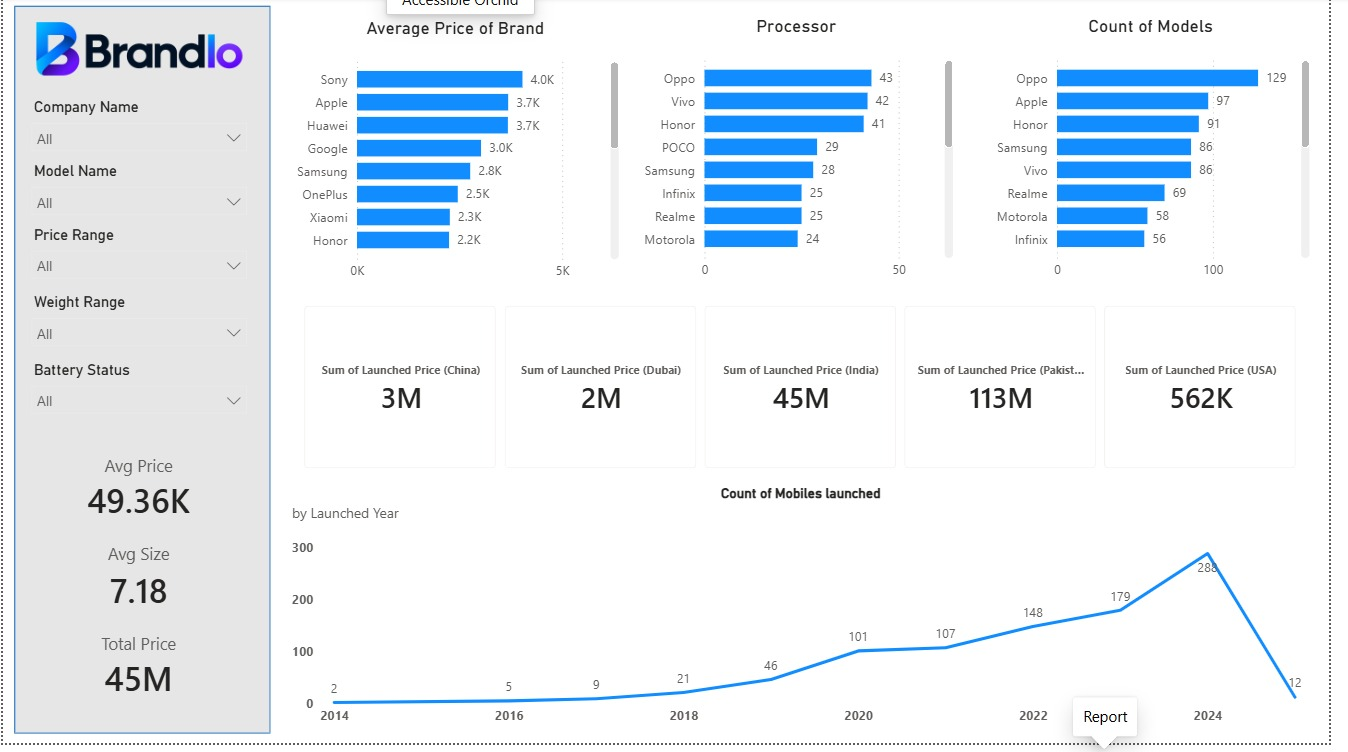

This screenshot's page, from the dashboard's own definition file:
{"tool":"powerbi","page":{"name":"Report","canvas":[1280,720],"ordinal":19},"visuals":[{"type":"shape","box":[10.3,9,247.4,702.6],"z":0},{"type":"image","box":[10.3,9,241,83.3],"z":1000},{"type":"slicer","fields":{"Values":["Dataset.Weight Range"]},"box":[16.7,280.8,228.2,65.4],"z":2000},{"type":"slicer","fields":{"Values":["Dataset.Price Range"]},"box":[16.7,215.4,228.2,65.4],"z":3000},{"type":"slicer","fields":{"Values":["Dataset.Model Name"]},"box":[16.7,153.8,228.2,61.5],"z":4000},{"type":"slicer","fields":{"Values":["Dataset.Company Name"]},"box":[16.7,92.3,228.2,61.5],"z":5000},{"type":"cardVisual","fields":{"Data":["Dataset.Avg Price","Dataset.Avg Size","Dataset.Total Price"]},"box":[16.7,417.9,228.2,284.6],"z":6000},{"type":"slicer","fields":{"Values":["Dataset.Battery Status"]},"box":[16.7,346.2,228.2,61.5],"z":7000},{"type":"barChart","title":"Count of Models","fields":{"Category":["Dataset.Company Name"],"Y":["CountNonNull(Dataset.Company Name)"]},"box":[950,17.9,316.7,262.8],"z":8000},{"type":"lineChart","title":"Count of Mobiles launched","fields":{"Category":["Dataset.Launched Year"],"Y":["CountNonNull(Dataset.Launched Year)"]},"box":[274.4,471.8,992.3,239.7],"z":9000},{"type":"cardVisual","fields":{"Data":["Sum(Dataset.Launched Price (China))","Sum(Dataset.Launched Price (Dubai))","Sum(Dataset.Launched Price (India))","Sum(Dataset.Launched Price (Pakistan))","Sum(Dataset.Launched Price (USA))"]},"box":[274.4,280.8,992.3,191],"z":10000},{"type":"barChart","title":"Processor","fields":{"Category":["Dataset.Company Name"],"Y":["Count(Dataset.Processor)"]},"box":[609,17.9,312.8,262.8],"z":11000},{"type":"barChart","title":"Average Price of Brand","fields":{"Category":["Dataset.Company Name"],"Y":["Avg(Dataset.Launched Price (Dubai))"]},"box":[274.4,19.2,325.6,262.8],"z":12000}]}

Visuals, with their boxes in screenshot pixels (x1, y1, x2, y2), scaled from the page's 1280x720 canvas onto the 1348x752 screenshot:
shape: bbox(11, 9, 271, 743)
image: bbox(11, 9, 265, 96)
slicer - Dataset.Weight Range: bbox(18, 293, 258, 362)
slicer - Dataset.Price Range: bbox(18, 225, 258, 293)
slicer - Dataset.Model Name: bbox(18, 161, 258, 225)
slicer - Dataset.Company Name: bbox(18, 96, 258, 161)
cardVisual - Dataset.Avg Price x Dataset.Avg Size: bbox(18, 436, 258, 734)
slicer - Dataset.Battery Status: bbox(18, 362, 258, 426)
"Count of Models" barChart: bbox(1000, 19, 1334, 293)
"Count of Mobiles launched" lineChart: bbox(289, 493, 1334, 743)
cardVisual - Sum(Dataset.Launched Price (China)) x Sum(Dataset.Launched Price (Dubai)): bbox(289, 293, 1334, 493)
"Processor" barChart: bbox(641, 19, 971, 293)
"Average Price of Brand" barChart: bbox(289, 20, 632, 295)
